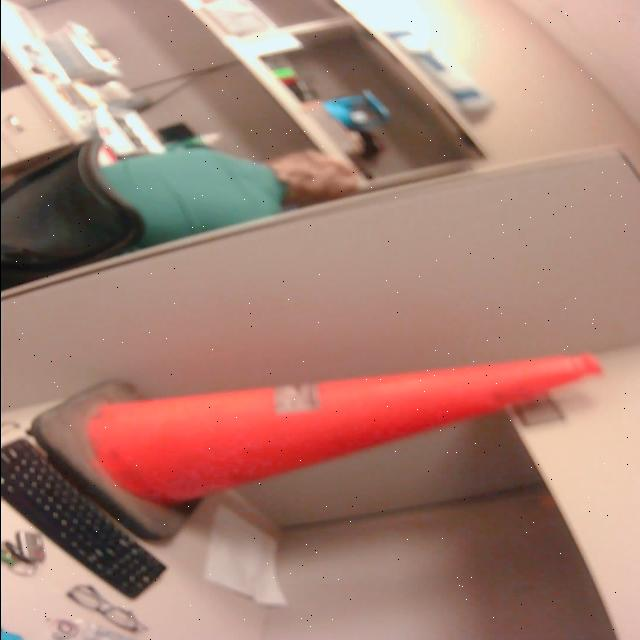traffic cone: (23, 348, 607, 550)
